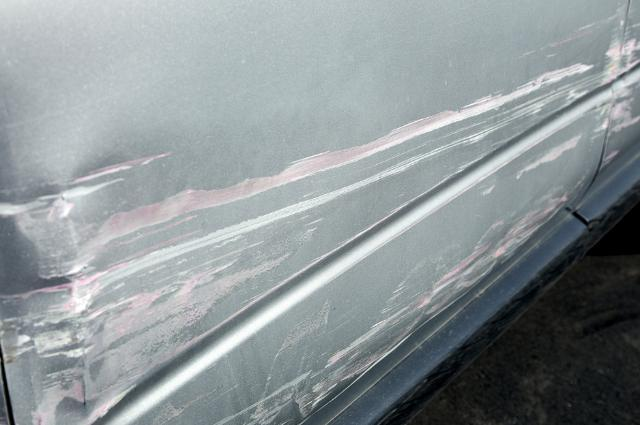Door: (0, 41, 640, 425)
